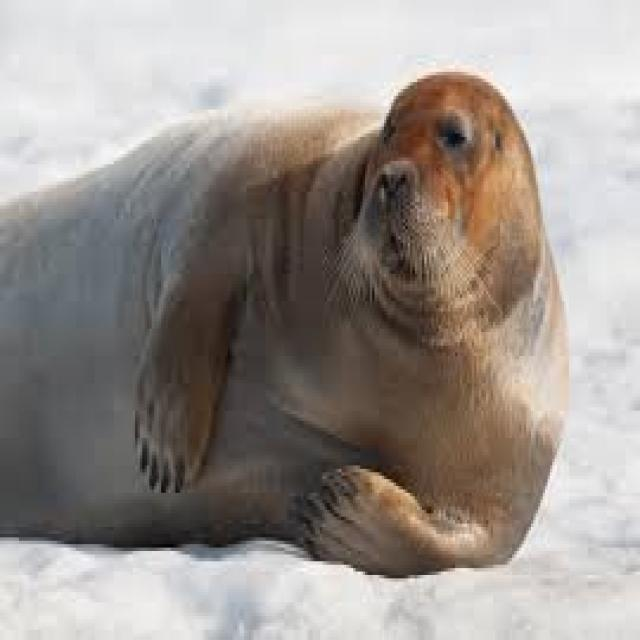seal: (0, 72, 567, 572)
